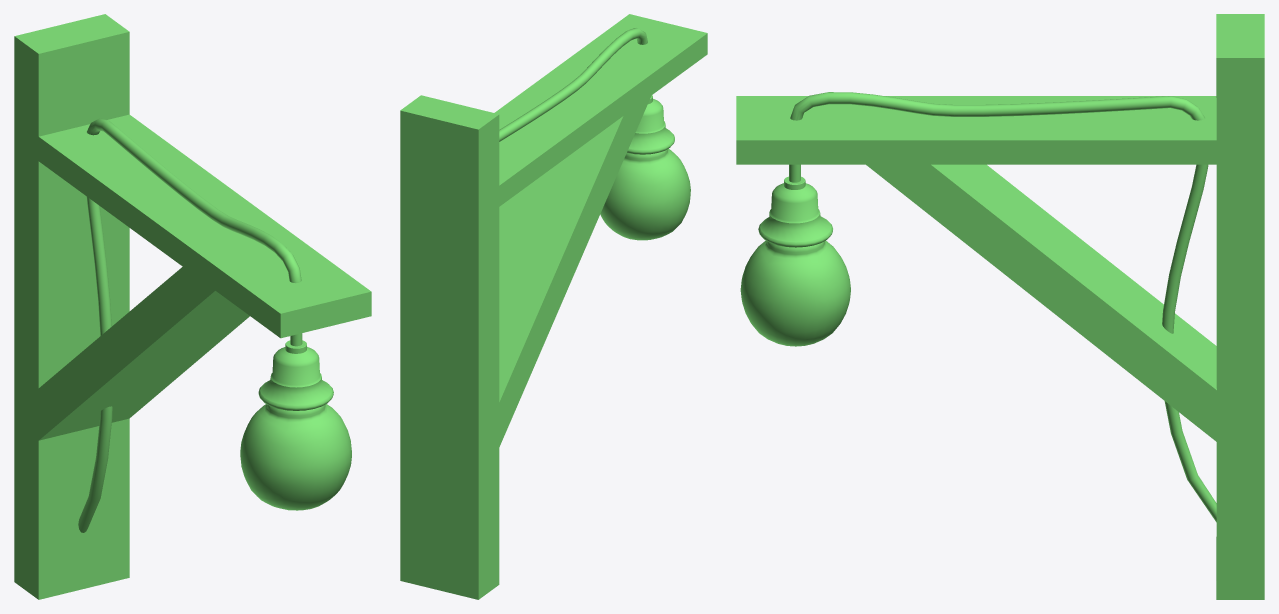
Rendered from Light 1.fbx.
The picture shows the model from 3 angles, left to right: view 1: azimuth 30°, elevation 25°; view 2: azimuth 150°, elevation 25°; view 3: azimuth 270°, elevation 25°; orthographic projection. The views are drawn at different scales.
Parts seen in each view (by area): view 1: Cube, Sphere.002, BézierCurve, Cylinder.011; view 2: Cube, Sphere.002, BézierCurve, Cylinder.011; view 3: Cube, Sphere.002, BézierCurve, Cylinder.011.
Part boxes in pixels (x1,y1,x2,y2): Cube: (14, 14, 371, 599); Sphere.002: (240, 404, 351, 510); BézierCurve: (78, 118, 302, 532); Cylinder.011: (258, 340, 333, 410); Cube: (400, 14, 707, 599); Sphere.002: (600, 149, 690, 240); BézierCurve: (499, 28, 647, 141); Cylinder.011: (627, 95, 674, 154); Cube: (736, 14, 1264, 599); Sphere.002: (740, 240, 850, 346); BézierCurve: (789, 92, 1216, 522); Cylinder.011: (758, 176, 832, 247).
Size of the model in its own units: 27.4 by 148 by 131.
